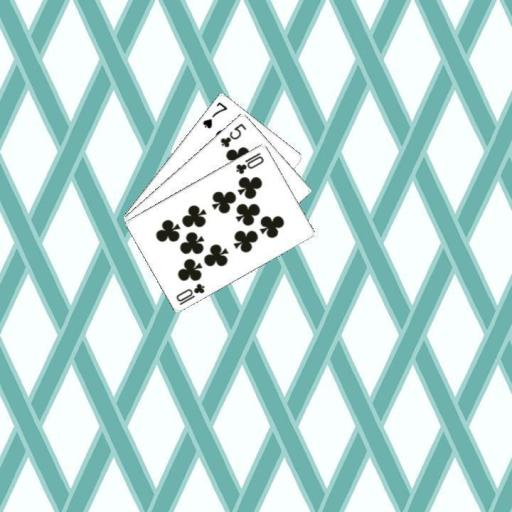card-corner: (199, 98, 229, 130), (217, 120, 248, 148), (233, 149, 265, 176), (173, 280, 206, 306)
